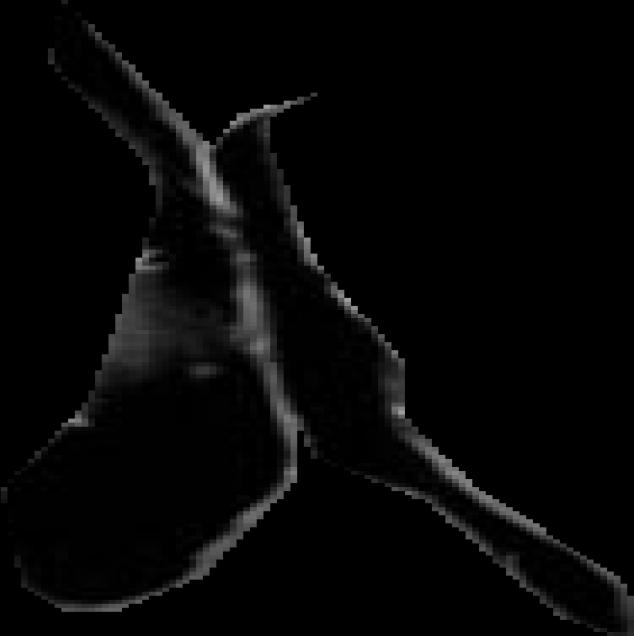tumor_moderate_chance: (1, 0, 634, 636)
